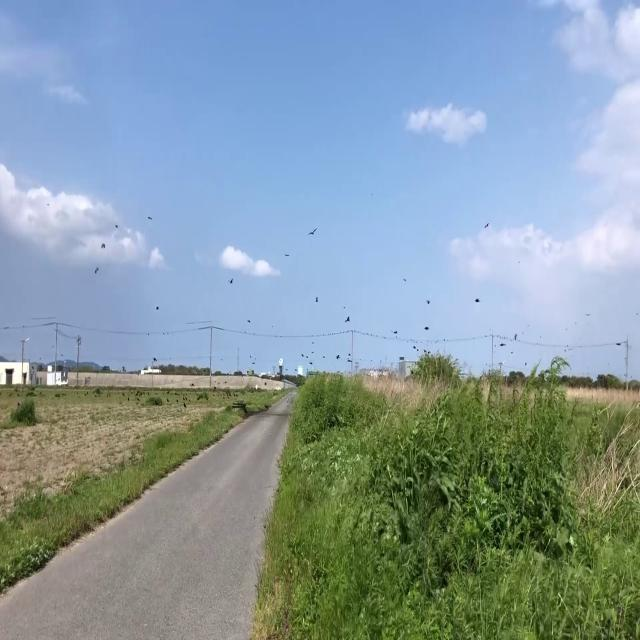bird: (475, 292, 480, 306), (424, 320, 429, 331), (484, 218, 488, 231), (346, 311, 350, 324), (426, 295, 431, 305), (102, 239, 105, 253), (230, 274, 233, 286), (184, 393, 186, 410)
